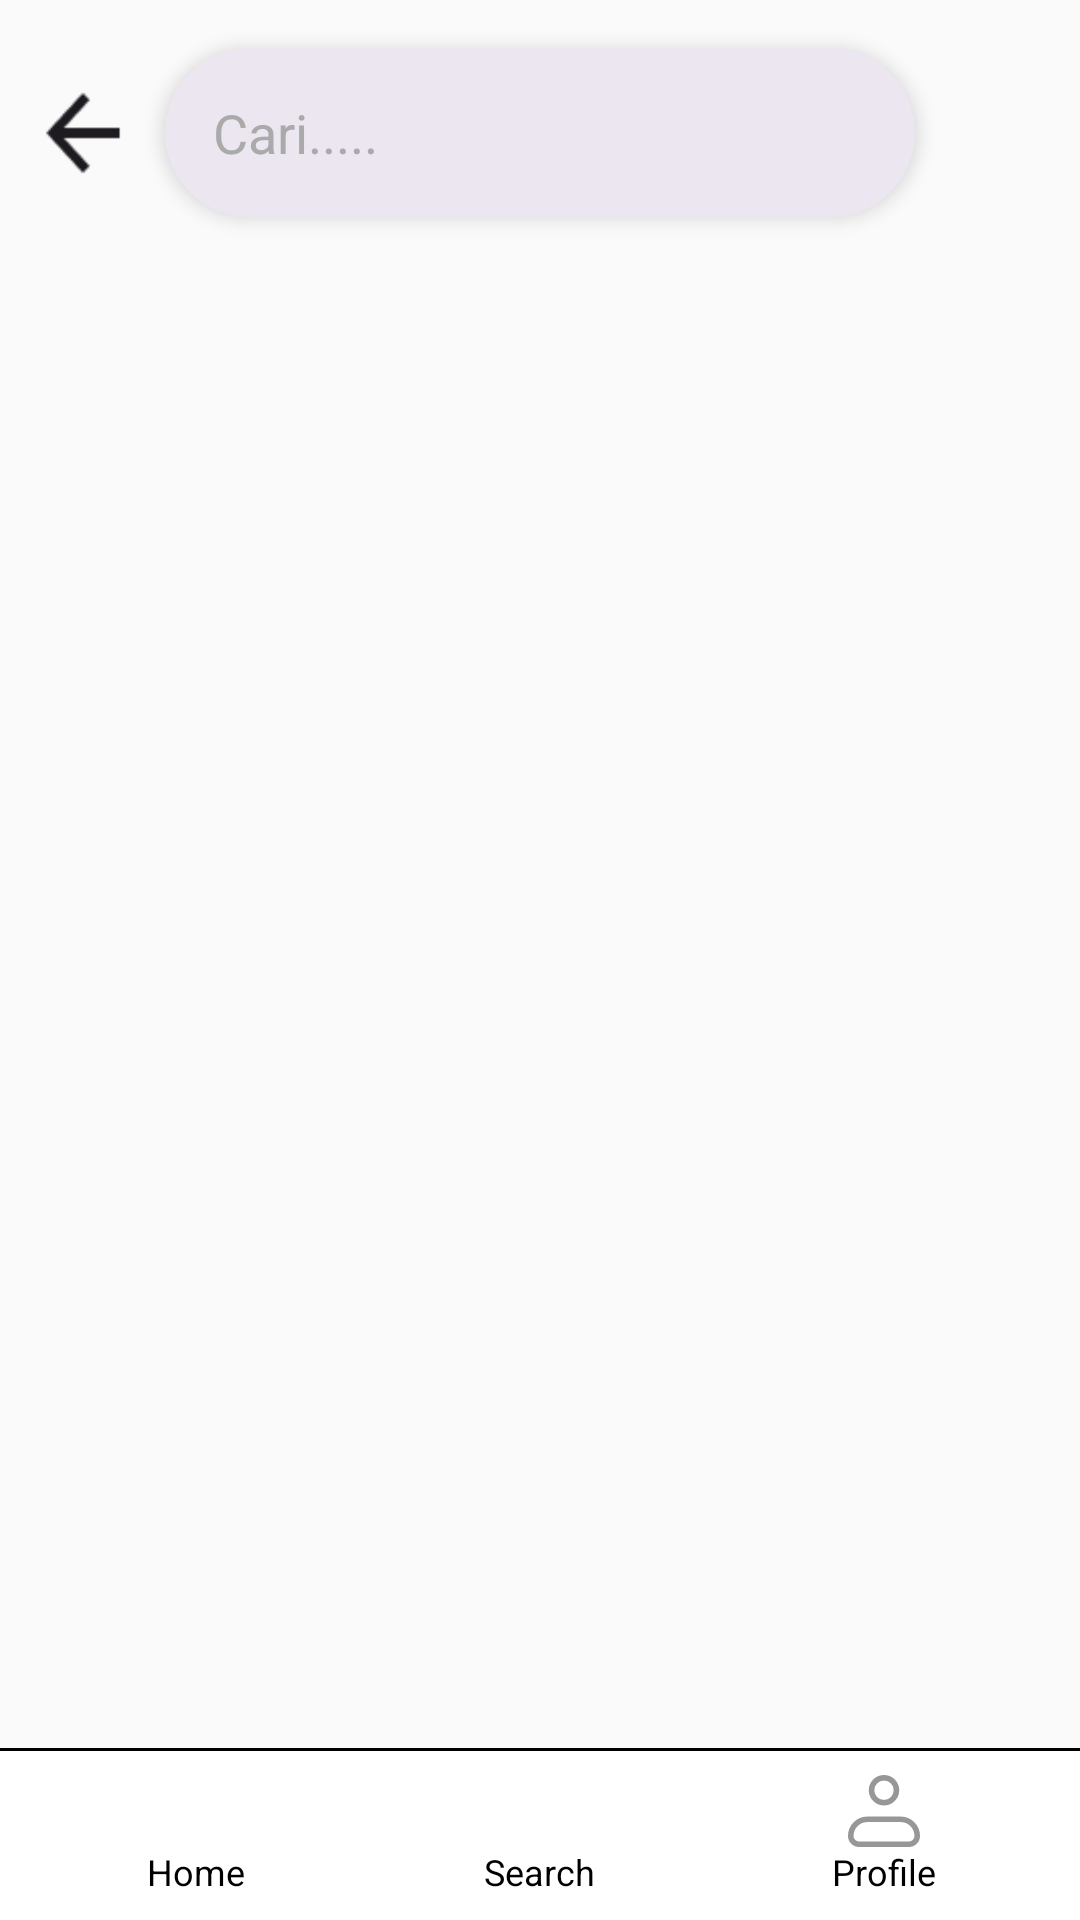

Point at icon controls on the screen. Image size 1080*1920, points as (x,y).
arrow back: (83,133)
